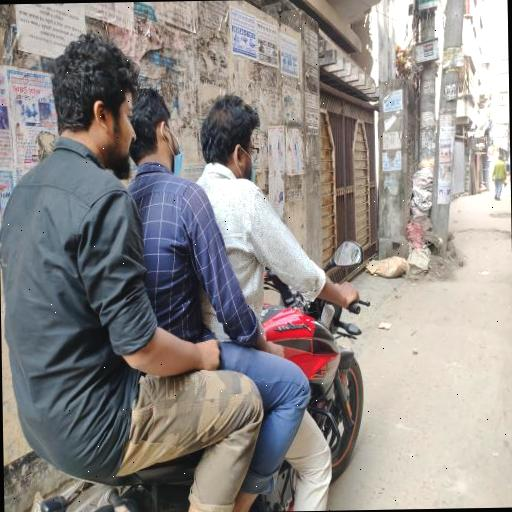no helmet: (179, 62, 295, 260)
triple riding: (0, 12, 373, 512)
